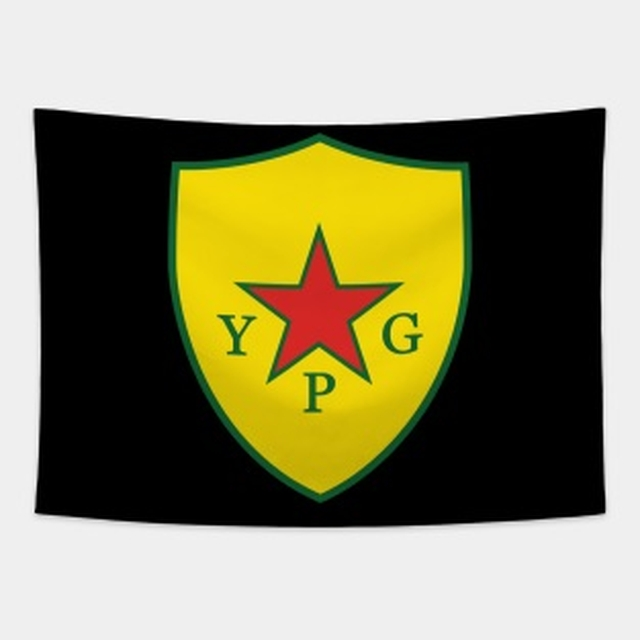YPG: (200, 222, 431, 418)
